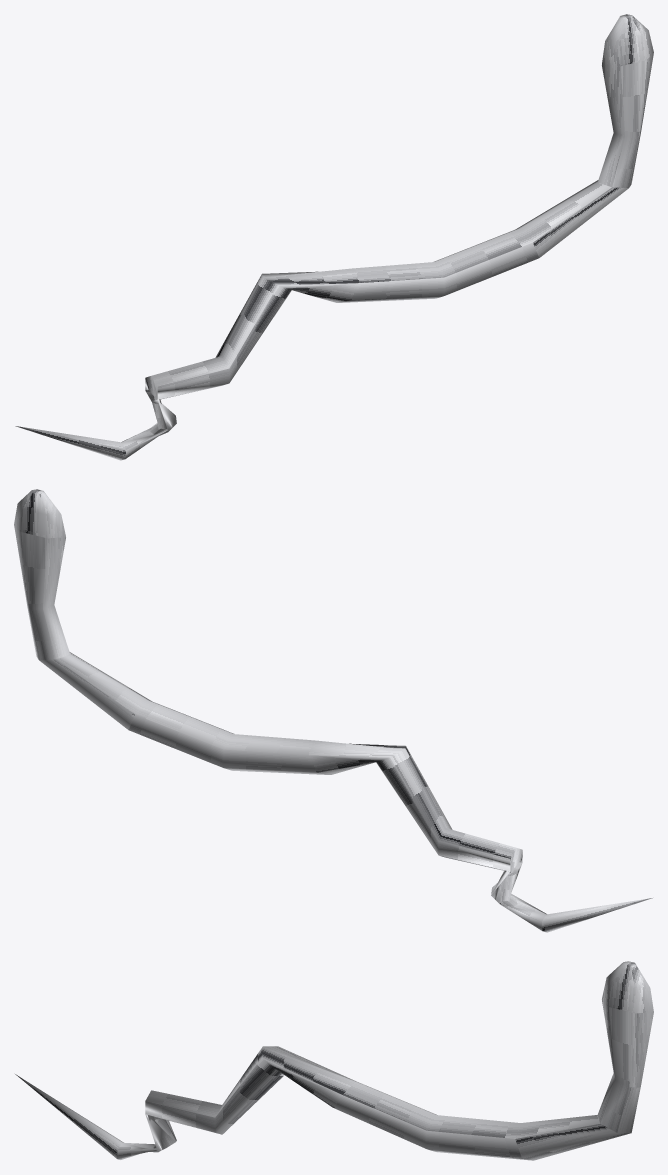
The model's file is snake_000016.obj.
3 renders of one model, top to bottom at view 1: azimuth 30°, elevation 25°; view 2: azimuth 150°, elevation 25°; view 3: azimuth 330°, elevation 25°, orthographic.
Visible parts, largest first — view 1: Cylinder; view 2: Cylinder; view 3: Cylinder.
Boxes of the visible parts, x1=… form: Cylinder: x1=15, y1=14, x2=653, y2=460; Cylinder: x1=14, y1=489, x2=652, y2=932; Cylinder: x1=15, y1=961, x2=653, y2=1160.
Size of the model in its own units: 7.67 by 3.65 by 0.3671.
